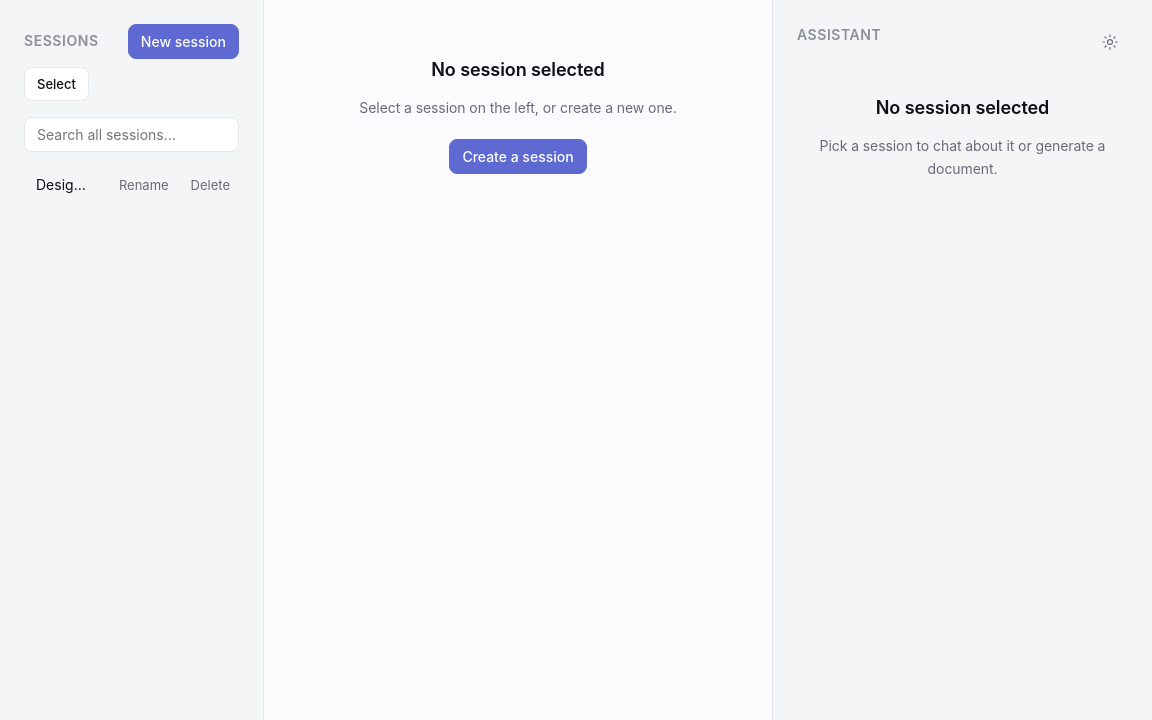
Scenario: App › deletes the selected session and returns the canvas to the empty state
What coordinates should you click on to do the following:
click the button "Design review"
I would click on:
 (63, 184)
Its box is [24,168,102,201].
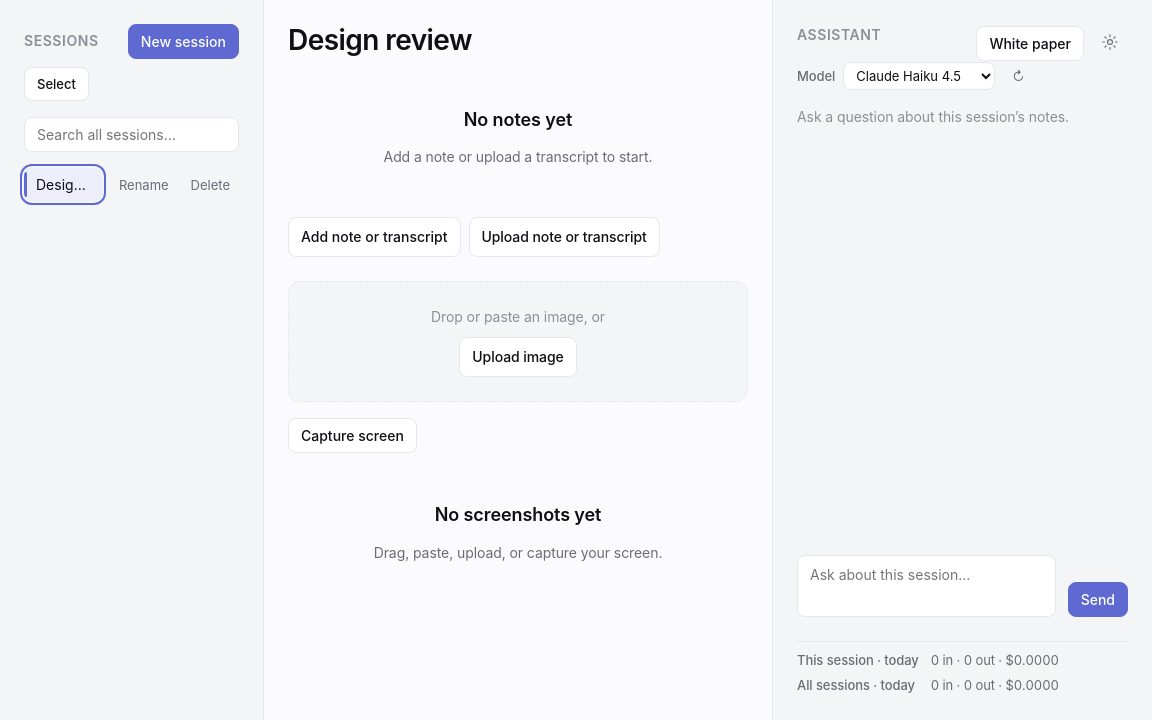
What coordinates should you click on to do the following:
click the button with aria-label "Delete Design review"
I would click on:
 (210, 184)
Its box is [182,172,239,198].
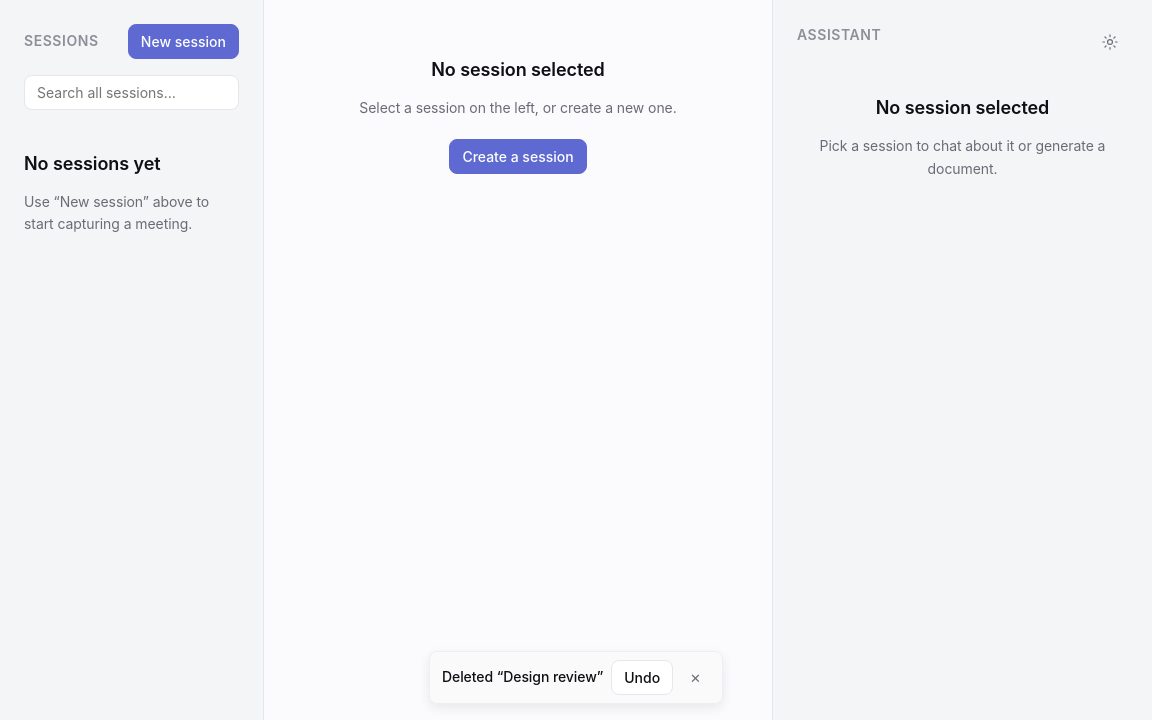
Expected: the 1st text "No session selected" is shown, [431,56,605,85]
Expected: the button "Undo" is shown, [611,660,673,695]
